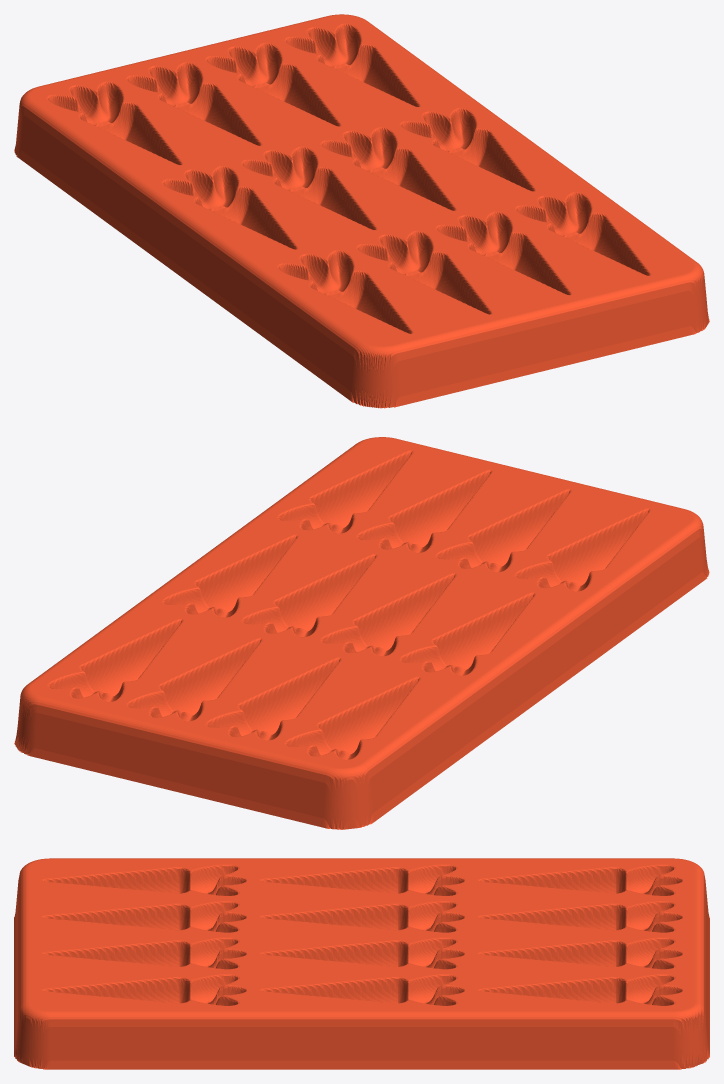
The model's file is mold.glb.
3 renders of one model, top to bottom at view 1: azimuth 30°, elevation 25°; view 2: azimuth 150°, elevation 25°; view 3: azimuth 270°, elevation 25°, orthographic. The views are drawn at different scales.
Visible parts, largest first — view 1: geometry_0; view 2: geometry_0; view 3: geometry_0.
Part boxes in pixels (x1,y1,x2,y2): geometry_0: (14, 14, 709, 408); geometry_0: (14, 437, 709, 829); geometry_0: (14, 858, 709, 1069).
Bounding box in the file's own units: 0.0978 × 0.0145 × 0.1753.
